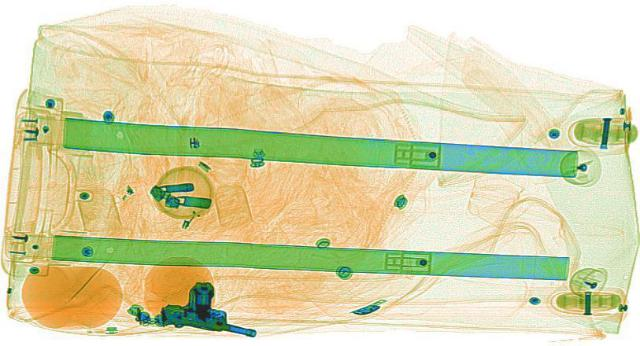Gun: (144, 275, 286, 339)
